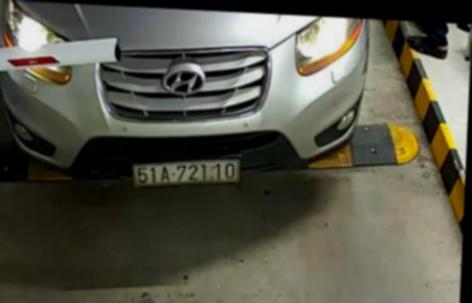License_Plate: (129, 154, 244, 192)
